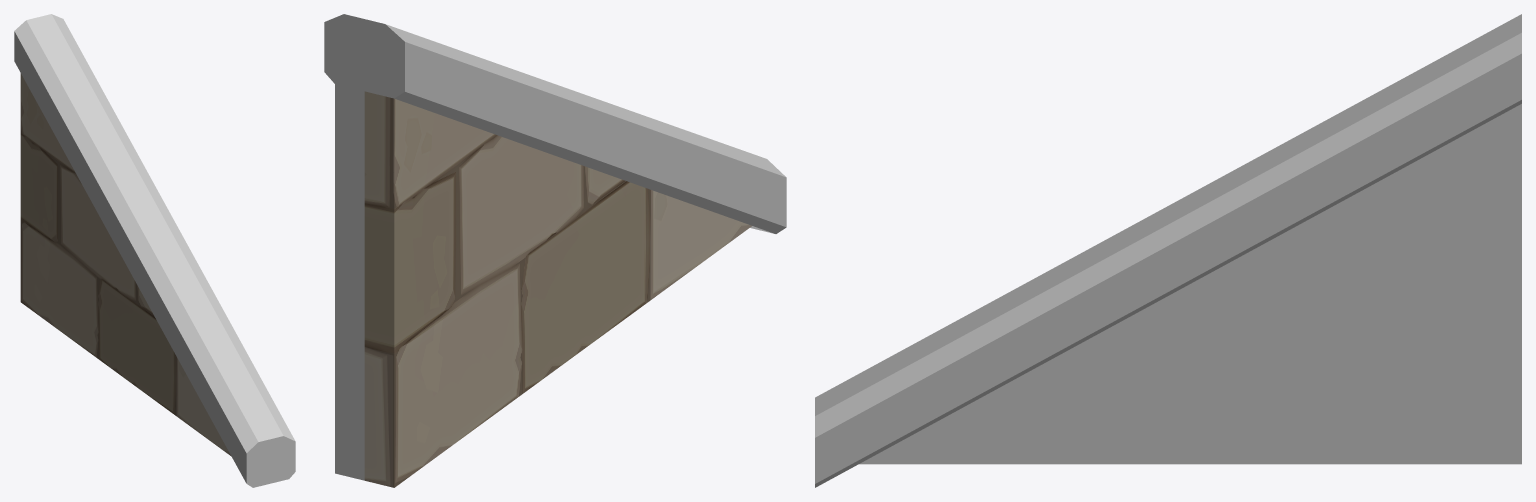
Rendered from SM_Bld_Stairs_Railing_Slope_02.fbx.
3 renders of one model, left to right at view 1: azimuth 30°, elevation 25°; view 2: azimuth 150°, elevation 25°; view 3: azimuth 270°, elevation 25°, orthographic. The views are drawn at different scales.
Visible parts, largest first — view 1: SM_Bld_Stairs_Railing_Slope_02; view 2: SM_Bld_Stairs_Railing_Slope_02; view 3: SM_Bld_Stairs_Railing_Slope_02.
Boxes of the visible parts, x1=… form: SM_Bld_Stairs_Railing_Slope_02: x1=14, y1=14, x2=295, y2=487; SM_Bld_Stairs_Railing_Slope_02: x1=324, y1=14, x2=786, y2=487; SM_Bld_Stairs_Railing_Slope_02: x1=815, y1=14, x2=1521, y2=487.
Bounding box in the file's own units: 30.52 × 176 × 250.
